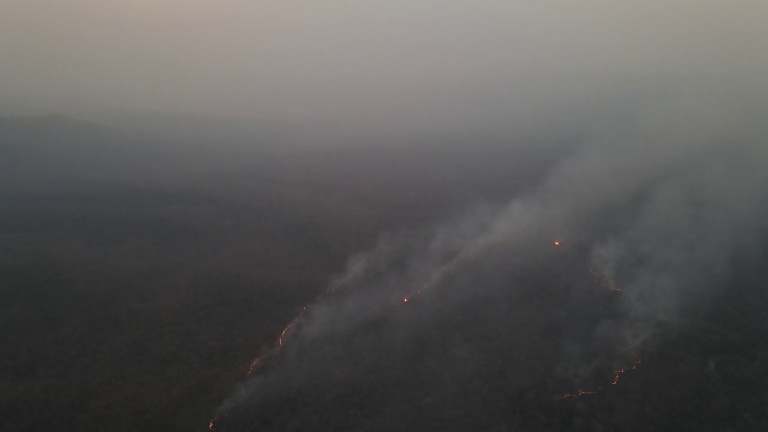fire: (551, 351, 645, 401), (589, 268, 631, 302), (276, 311, 299, 352), (243, 352, 261, 397), (208, 410, 218, 432), (400, 295, 411, 308), (553, 240, 560, 248)
smoke: (259, 97, 768, 380), (217, 378, 257, 423)
